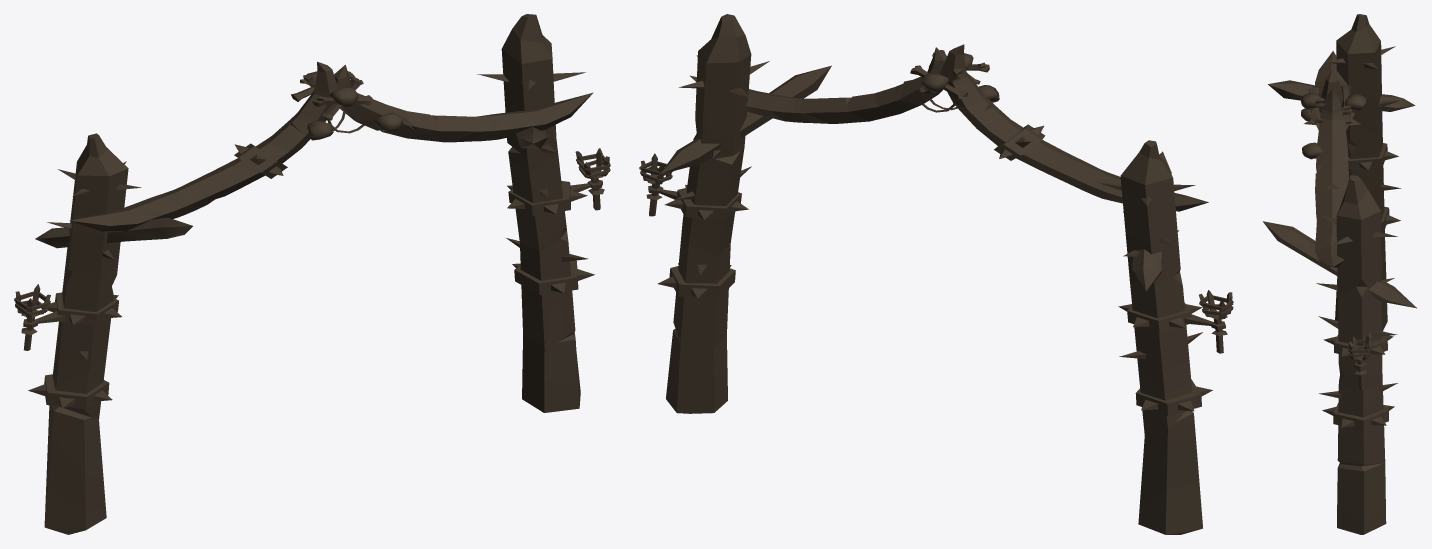
The model's file is bog_gate.gltf.
The picture shows the model from 3 angles, left to right: view 1: azimuth 30°, elevation 25°; view 2: azimuth 150°, elevation 25°; view 3: azimuth 270°, elevation 25°; orthographic projection. The views are drawn at different scales.
Visible parts, largest first — view 1: bog_gate; view 2: bog_gate; view 3: bog_gate.
Boxes of the visible parts, bbox=[...] form: bog_gate: bbox=[14, 14, 610, 534]; bog_gate: bbox=[639, 14, 1233, 534]; bog_gate: bbox=[1263, 14, 1416, 534].
Bounding box in the file's own units: 9.97 × 6.9 × 2.69.
1 material, 1 textured.
